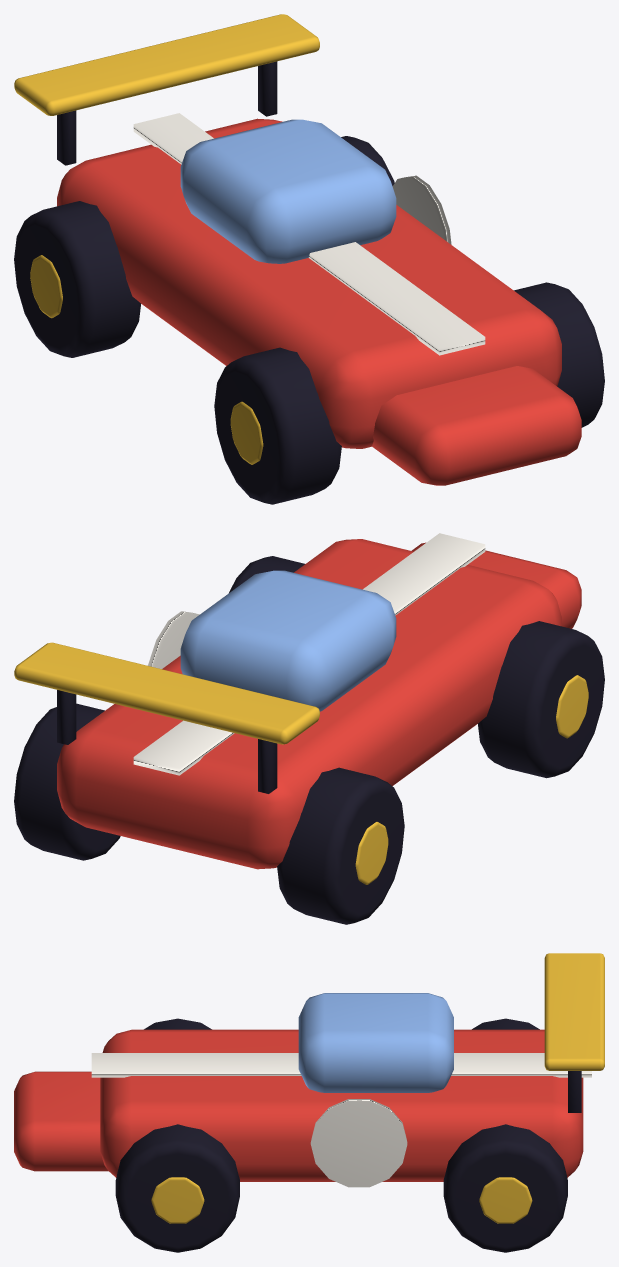
The model's file is toy_car_red.glb.
The picture shows the model from 3 angles, top to bottom: view 1: azimuth 30°, elevation 25°; view 2: azimuth 150°, elevation 25°; view 3: azimuth 270°, elevation 25°; orthographic projection. The views are drawn at different scales.
Visible parts, largest first — view 1: toy_car_red; view 2: toy_car_red; view 3: toy_car_red.
Part boxes in pixels (box(x1,y1,x2,y2)): toy_car_red: box(14, 14, 604, 504); toy_car_red: box(14, 533, 604, 924); toy_car_red: box(14, 953, 604, 1252).
Size of the model in its own units: 1.8 by 1.19 by 3.42.
